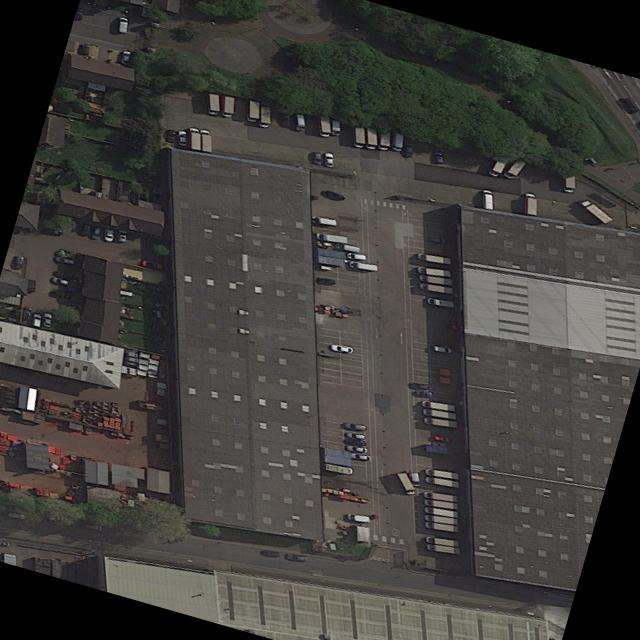large-vehicle: (577, 198, 613, 224), (502, 157, 527, 181), (487, 154, 510, 178), (394, 472, 417, 495), (419, 281, 454, 295), (423, 475, 459, 488), (417, 273, 453, 286), (420, 399, 455, 412), (416, 252, 451, 265), (421, 408, 457, 420), (422, 416, 458, 428), (322, 462, 355, 475), (423, 513, 458, 525), (424, 468, 459, 480), (423, 498, 458, 510), (424, 521, 459, 533), (425, 535, 459, 547), (351, 122, 366, 149), (424, 296, 455, 309), (425, 544, 461, 555), (416, 266, 452, 277), (422, 491, 457, 502), (423, 507, 458, 518), (220, 93, 235, 118), (316, 113, 331, 138), (378, 125, 392, 151), (246, 98, 260, 123), (365, 125, 378, 151), (199, 129, 213, 153), (187, 126, 201, 150), (206, 92, 220, 115), (391, 129, 405, 152), (524, 192, 537, 216), (258, 105, 271, 129), (563, 172, 576, 194), (481, 189, 494, 210), (346, 513, 370, 523), (294, 112, 306, 132), (330, 118, 341, 136)
small-vehicle: (314, 231, 348, 244), (348, 260, 378, 272), (621, 97, 640, 113), (321, 189, 346, 201), (334, 242, 361, 253), (50, 289, 73, 301), (52, 269, 75, 281), (310, 216, 337, 226), (140, 259, 164, 270), (53, 255, 76, 266), (285, 552, 309, 562), (345, 444, 369, 454), (330, 344, 354, 354), (51, 276, 72, 287), (41, 226, 62, 237), (343, 421, 366, 431), (79, 221, 93, 237), (90, 224, 103, 241), (348, 452, 372, 461), (343, 438, 367, 447), (118, 15, 129, 34), (4, 511, 27, 520), (346, 252, 368, 261), (119, 50, 132, 65), (103, 226, 115, 242), (30, 312, 42, 328), (13, 254, 25, 270), (429, 235, 448, 245), (345, 431, 366, 440), (432, 345, 453, 354), (260, 549, 281, 558), (177, 129, 188, 146), (407, 382, 430, 390), (409, 472, 421, 487), (413, 389, 433, 398), (117, 228, 128, 244), (324, 152, 335, 168), (432, 434, 451, 443), (83, 523, 102, 532), (42, 311, 52, 328), (280, 113, 292, 127), (26, 278, 37, 293), (21, 306, 32, 321), (166, 129, 177, 144), (316, 277, 335, 285), (312, 151, 322, 166), (434, 150, 444, 164), (404, 143, 413, 158), (80, 43, 90, 56), (430, 441, 446, 448)
